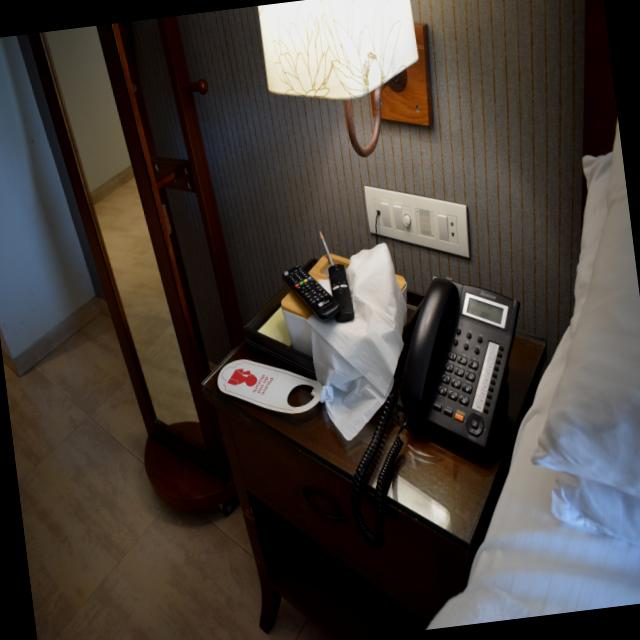mess: (186, 187, 538, 590)
